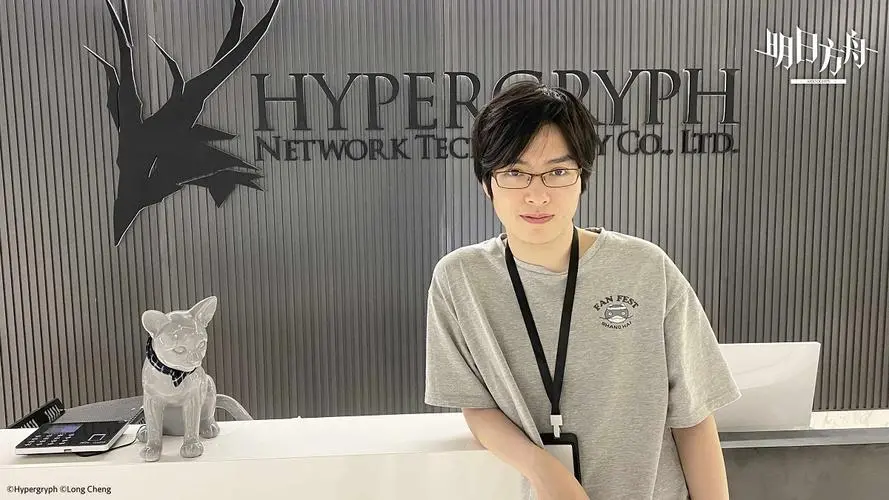withoutmask: (462, 82, 606, 259)
